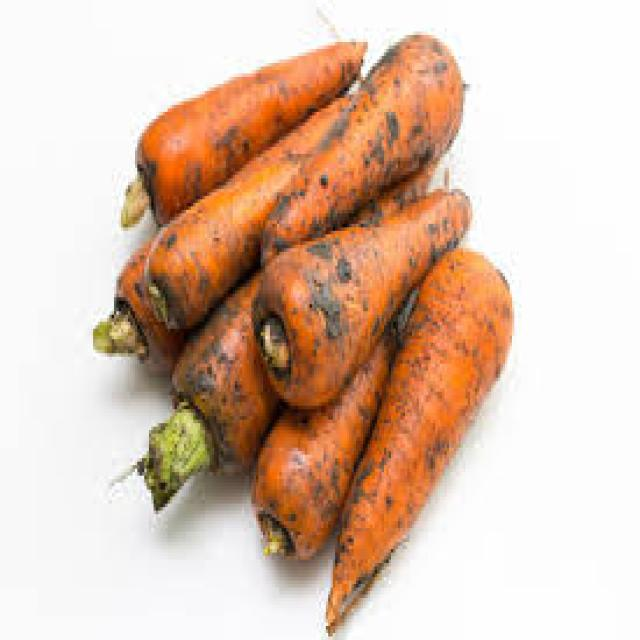Stale_Carrot: (186, 55, 467, 389)
